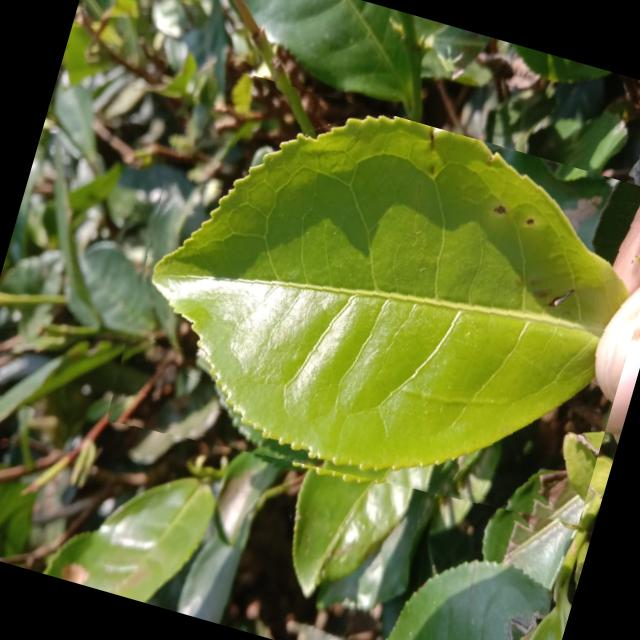Category B(2-4 days): (93, 58, 640, 552)
